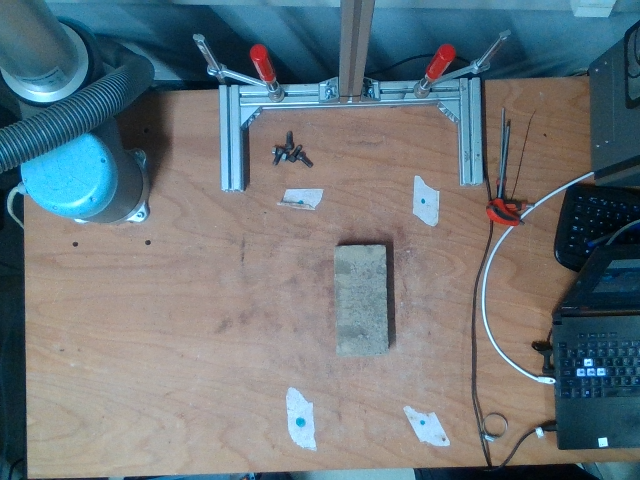brick: (337, 248, 387, 352)
